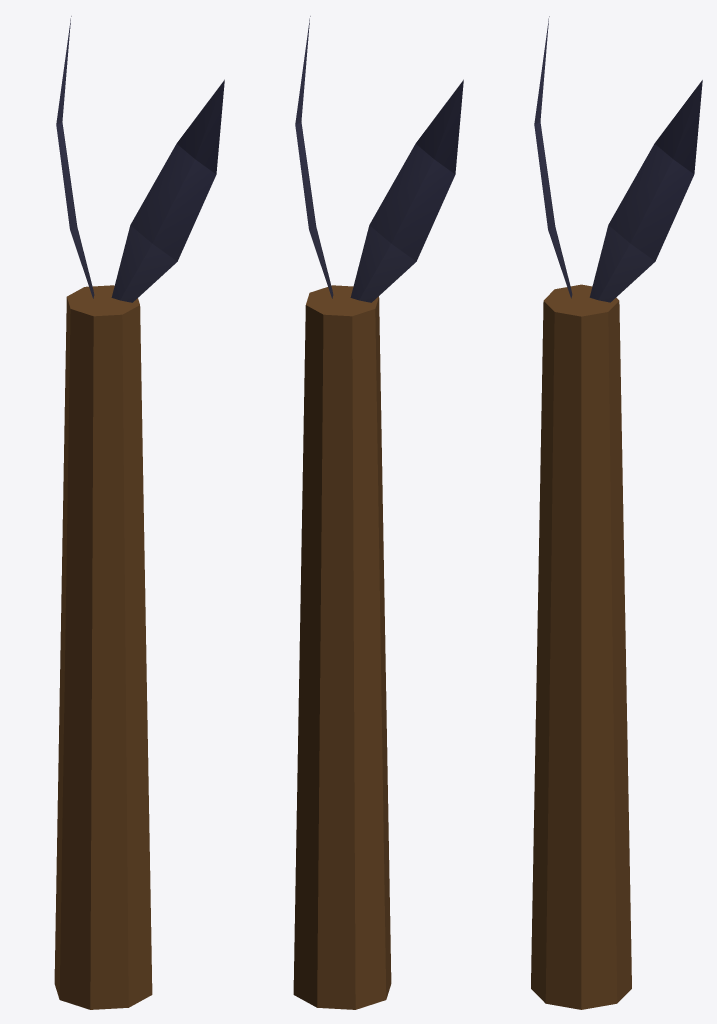
Rendered from feathertotem.glb.
The picture shows the model from 3 angles, left to right: view 1: azimuth 30°, elevation 25°; view 2: azimuth 150°, elevation 25°; view 3: azimuth 270°, elevation 25°; orthographic projection.
Parts seen in each view (by area): view 1: feathertotem_wood, feathertotem_plain; view 2: feathertotem_wood, feathertotem_plain; view 3: feathertotem_wood, feathertotem_plain.
Boxes of the visible parts, left/top/right/bottom form: feathertotem_wood: left=54, top=285, right=152, bottom=1009; feathertotem_plain: left=56, top=16, right=224, bottom=302; feathertotem_wood: left=293, top=285, right=391, bottom=1009; feathertotem_plain: left=295, top=16, right=463, bottom=302; feathertotem_wood: left=531, top=284, right=631, bottom=1009; feathertotem_plain: left=534, top=16, right=702, bottom=302.
Bounding box in the file's own units: 0.3327 × 1.61 × 0.3329.
